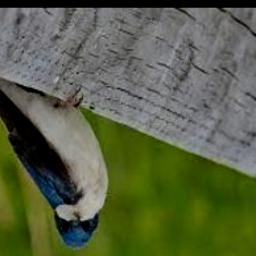Swallow: (0, 69, 108, 248)
